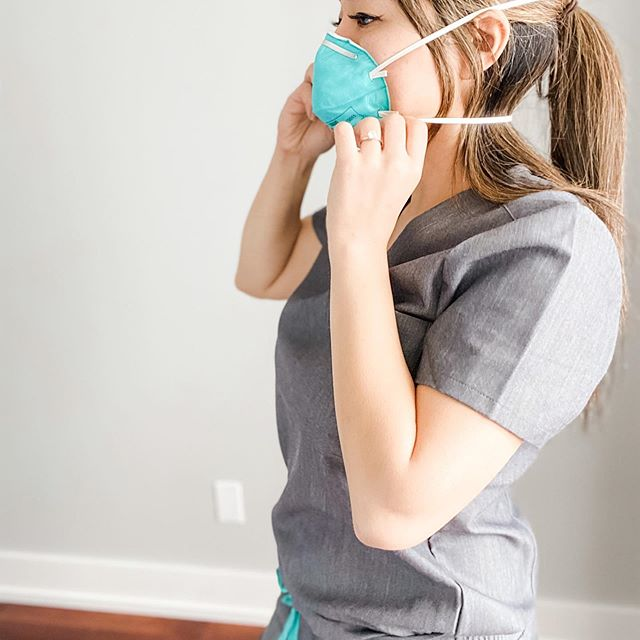n95: (301, 33, 404, 140)
